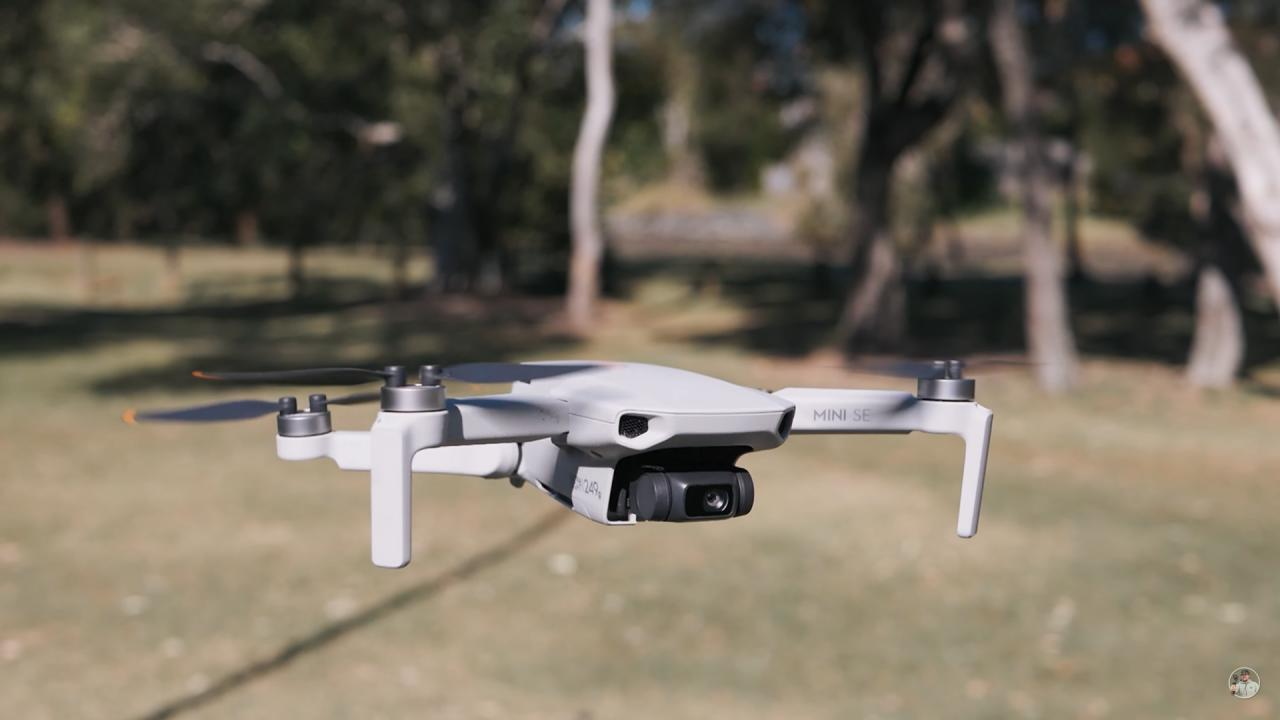Drone: (108, 340, 1064, 576)
